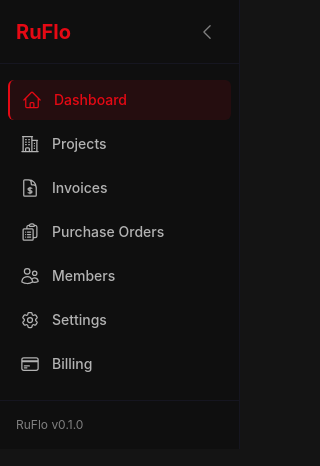
Test: Sidebar › toggles collapse state
The width and height of the screenshot is (320, 466).
Expected: the text "Dashboard" is shown, [54,90,127,110]
Expected: the text "RuFlo" is shown, [16,18,71,46]
# Click collapse button
Click the button named "Collapse sidebar" at (207, 32), box [191,16,223,48]
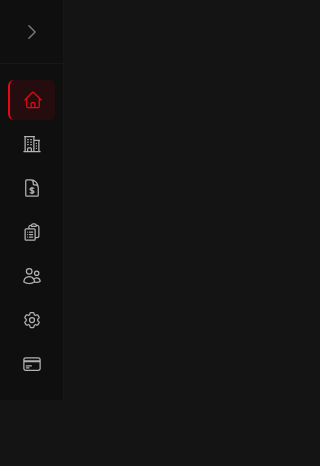
Now the text "Dashboard" is gone
Now the text "RuFlo" is gone
# Click expand button
Click the button named "Expand sidebar" at (32, 32), box [16,16,48,48]
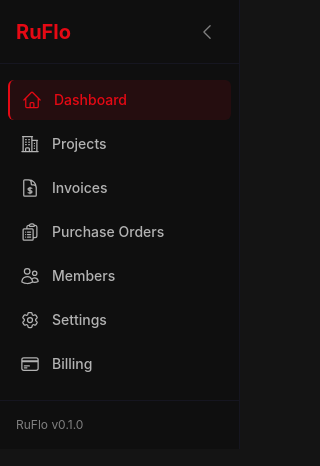
Now the text "Dashboard" is shown, box [54,90,127,110]
